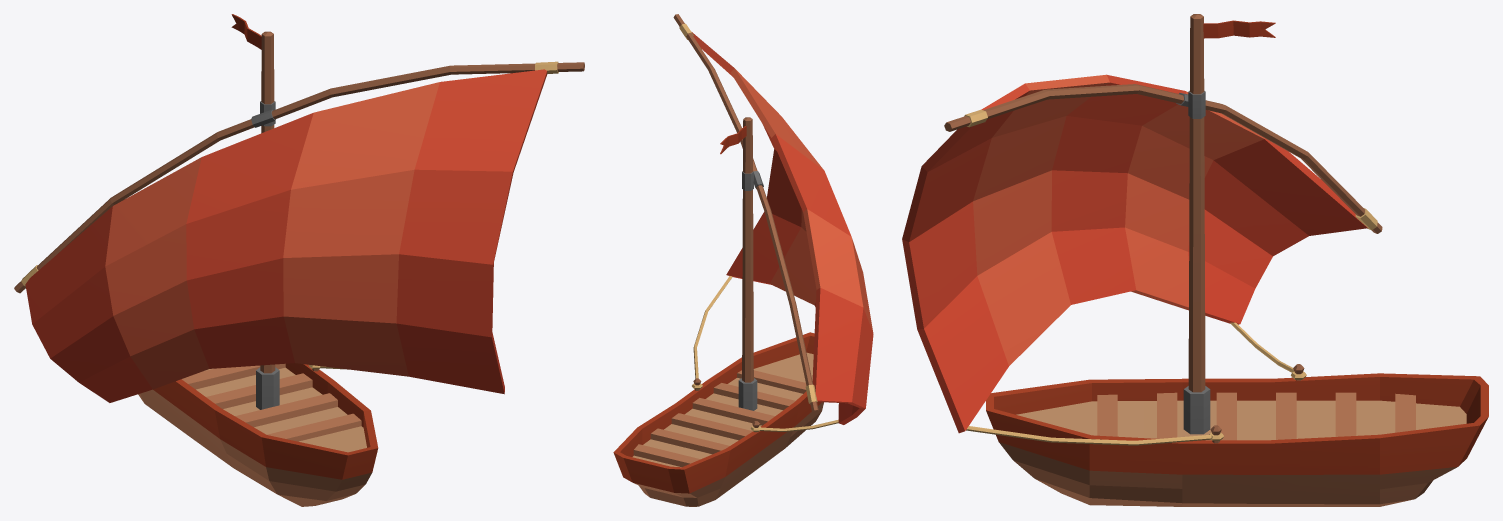
Rendered from ship-small-2.glb.
3 renders of one model, left to right at view 1: azimuth 30°, elevation 25°; view 2: azimuth 150°, elevation 25°; view 3: azimuth 270°, elevation 25°, orthographic. The views are drawn at different scales.
Visible parts, largest first — view 1: ship small 2; view 2: ship small 2; view 3: ship small 2.
Boxes of the visible parts, x1,y1,x2,y2 form: ship small 2: (14, 14, 584, 506); ship small 2: (613, 14, 873, 506); ship small 2: (902, 14, 1488, 506).
Bounding box in the file's own units: 13.73 × 14.71 × 16.09.
1 material, 1 textured.
